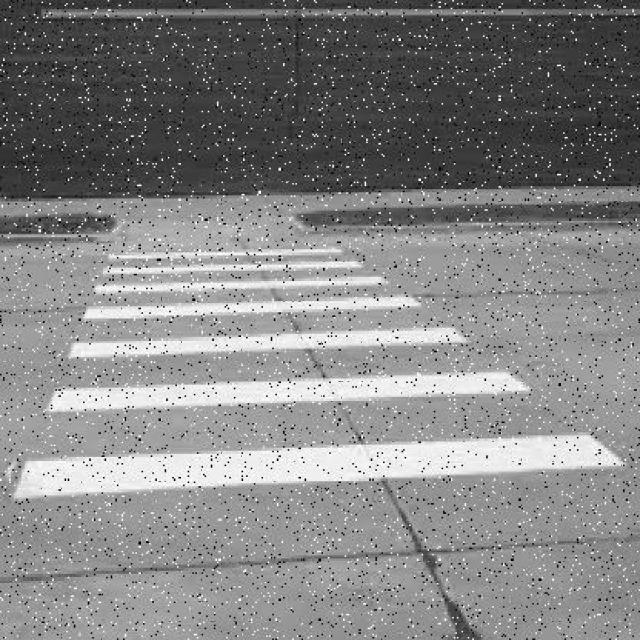crosswalk: (16, 247, 626, 497)
